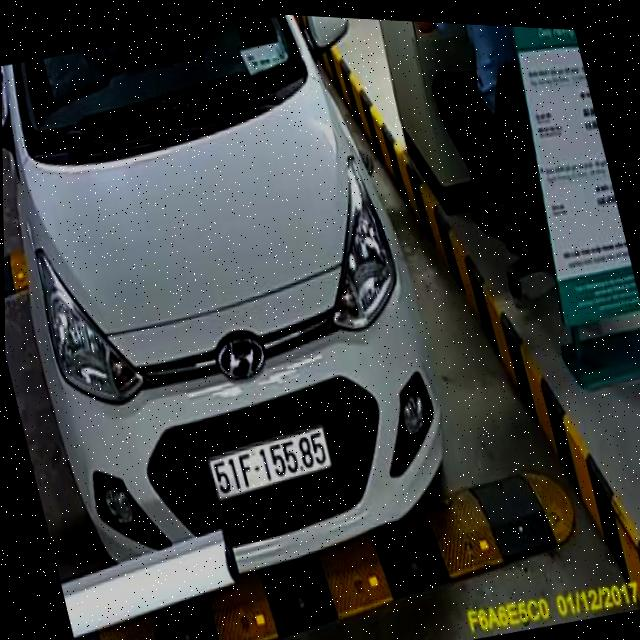car: (0, 0, 490, 634)
plate: (198, 419, 338, 508)
